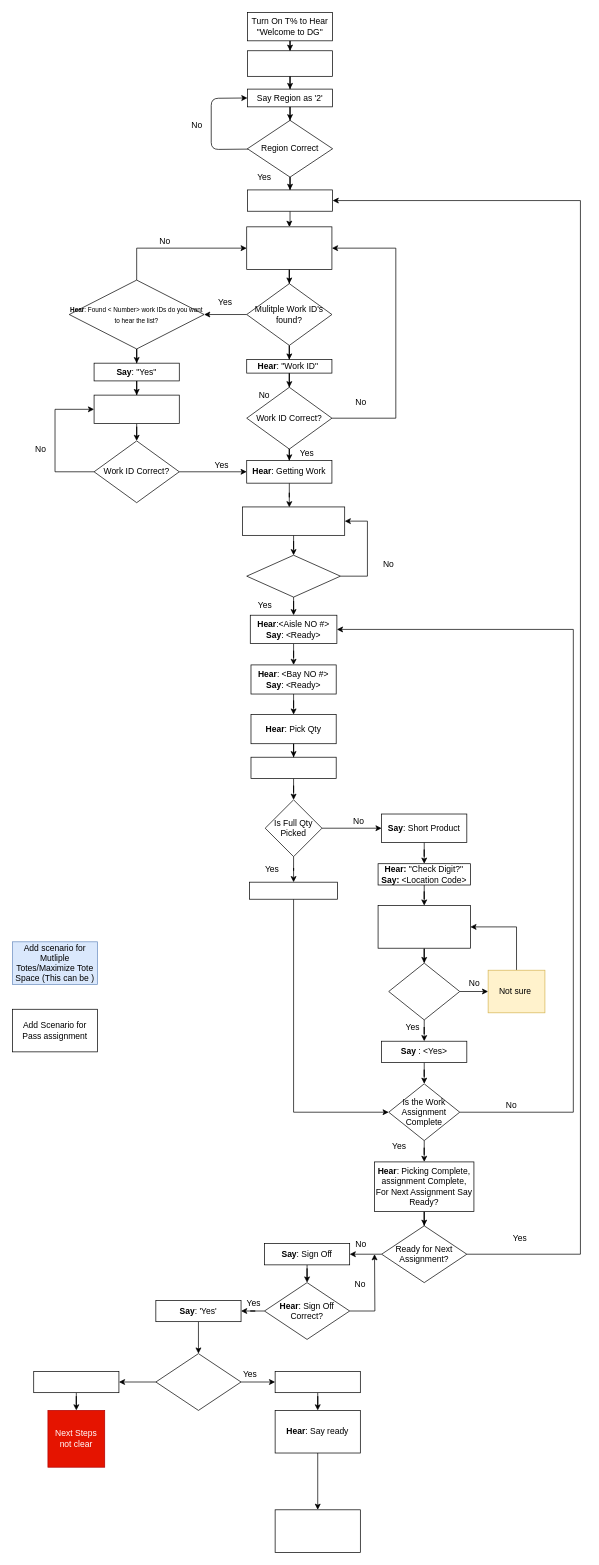
The diagram is 599 pixels wide and 1565 high, and some of its shapes have lost their labels. The centre of each missing label's shape, as x and y in pixels:
hear " Work ID?" Say 'Last 4 digits of WKA': the point at 289,247
Hear : <Qty> Correct?: the point at 424,991
Hear : Container ID Correct?: the point at 293,576
Hear : End of Shift?: the point at 198,1381
Hear : How Many did you pick? Say : <Quantity Selected>: the point at 423,926
Hear : New Container Id? Say : <Container ID>: the point at 293,520
Press and Hold Yellow button to Hear: Powering Off: the point at 317,1530
Say " Ready": the point at 290,200
Say "Ready" And Say 'Password': the point at 290,63
Say : <Location Code>: the point at 293,890
Say : Yes: the point at 317,1382
Say: No: the point at 76,1382
T5 : will list all WKA in sequence: the point at 136,409
User Picks Qty: the point at 293,768
